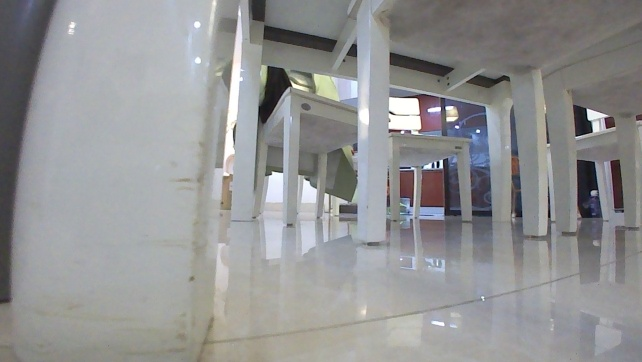dining_table1: (0, 0, 641, 360)
